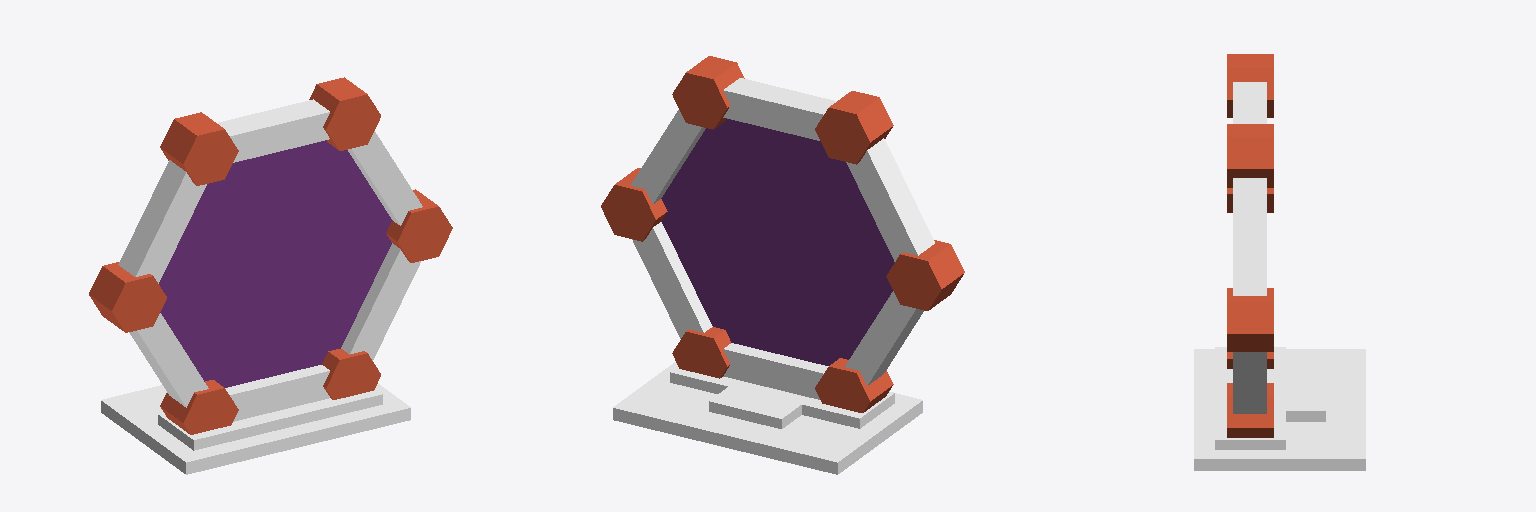
File: portal.obj
3 views of the same model, side by side, from view 1: azimuth 30°, elevation 25°; view 2: azimuth 150°, elevation 25°; view 3: azimuth 270°, elevation 25° (orthographic).
Parts seen in each view (by area): view 1: portal; view 2: portal; view 3: portal.
Part boxes in pixels (x1,y1,x2,y2): portal: (89,77,452,474); portal: (601,56,964,474); portal: (1194,54,1365,470).
Size of the model in its own units: 2.39 by 2.14 by 1.04.